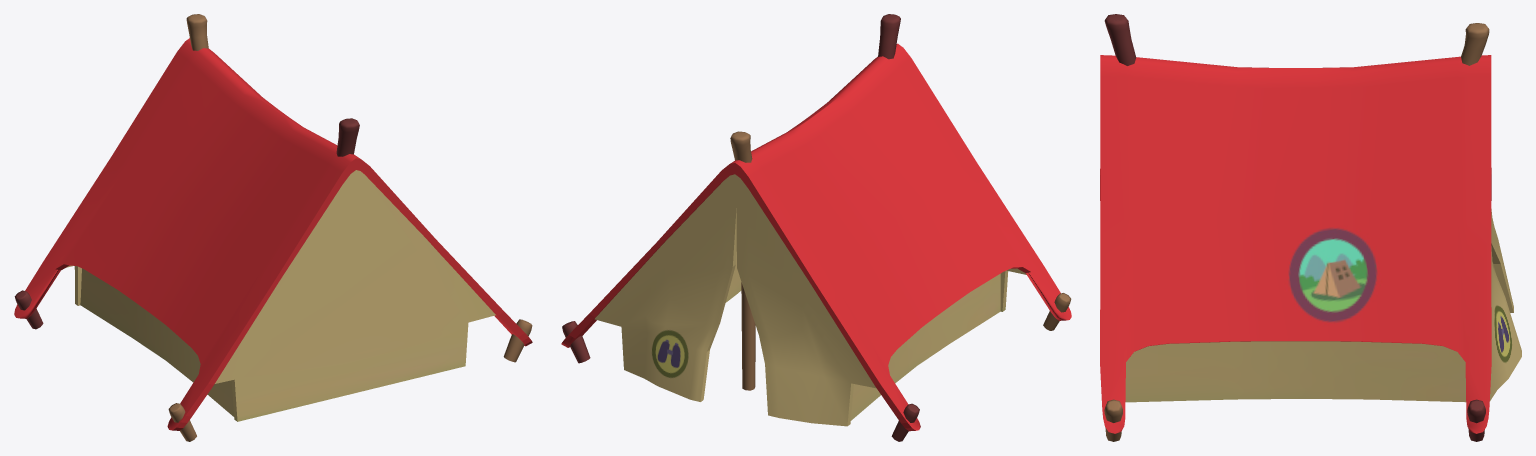
3 renders of one model, left to right at view 1: azimuth 30°, elevation 25°; view 2: azimuth 150°, elevation 25°; view 3: azimuth 270°, elevation 25°, orthographic. The views are drawn at different scales.
Parts seen in each view (by area): view 1: Tent_01_Camping_mat_0; view 2: Tent_01_Camping_mat_0; view 3: Tent_01_Camping_mat_0.
Part boxes in pixels (x1,y1,x2,y2): Tent_01_Camping_mat_0: (14, 14, 532, 441); Tent_01_Camping_mat_0: (561, 14, 1071, 441); Tent_01_Camping_mat_0: (1100, 14, 1521, 441).
Size of the model in its own units: 8.17 by 6.02 by 6.98.
1 material, 1 textured.
